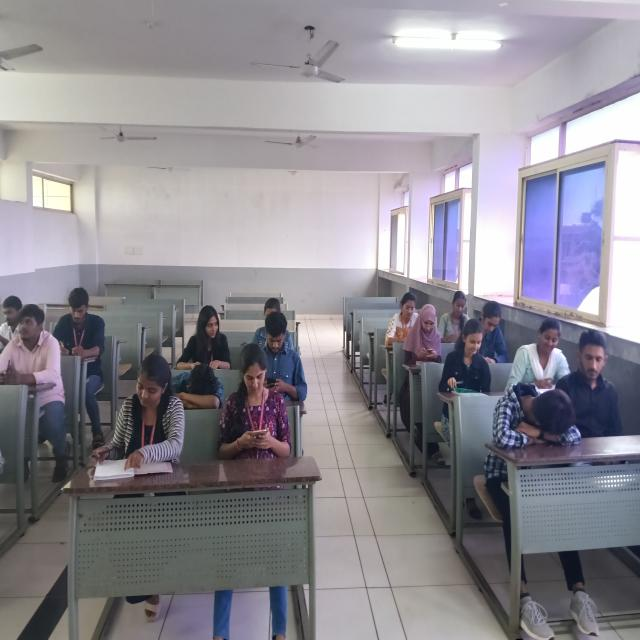Sleeping: (482, 372, 586, 458), (162, 357, 232, 414)
Using Phone: (210, 342, 298, 462), (252, 312, 312, 407), (51, 286, 109, 362), (403, 302, 449, 372)
Writing: (81, 352, 192, 482)
